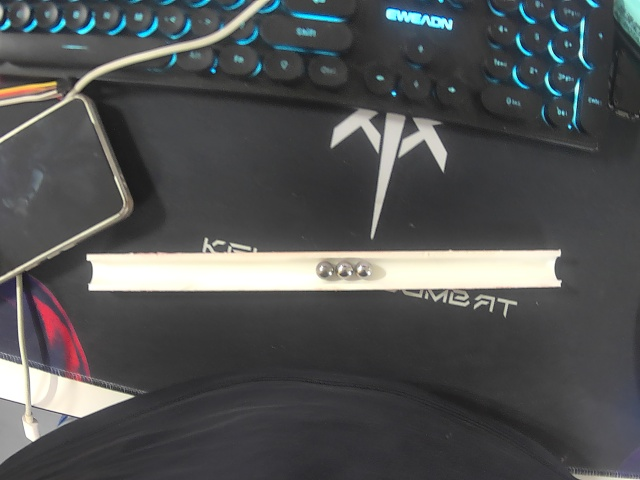steelball: (314, 259, 336, 280), (334, 260, 356, 281), (356, 260, 376, 279)
